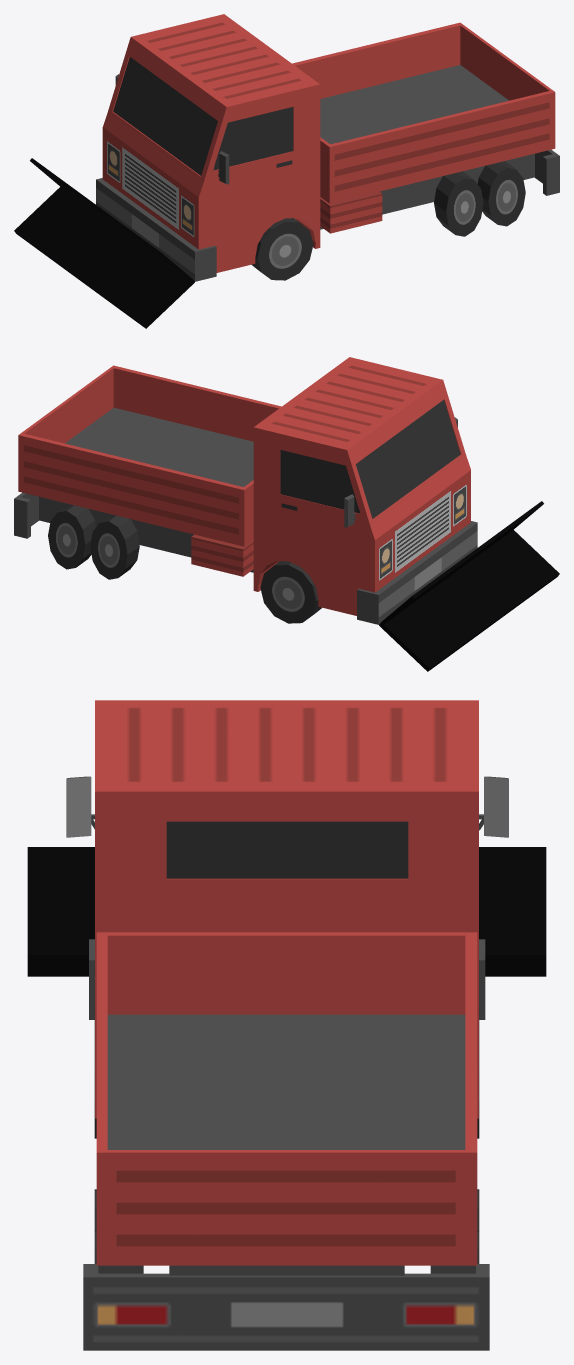
File: snow-truck-1.glb
3 renders of one model, top to bottom at view 1: azimuth 30°, elevation 25°; view 2: azimuth 150°, elevation 25°; view 3: azimuth 270°, elevation 25°, orthographic. The views are drawn at different scales.
Parts seen in each view (by area): view 1: Vehicle_Truck_color02.000, plow; view 2: Vehicle_Truck_color02.000, plow; view 3: Vehicle_Truck_color02.000, plow.
Part boxes in pixels (x1,y1,x2,y2): Vehicle_Truck_color02.000: (96,14,559,281); plow: (14,158,194,328); Vehicle_Truck_color02.000: (14,357,477,624); plow: (379,501,559,671); Vehicle_Truck_color02.000: (66,700,508,1350); plow: (27,847,546,976).
Bounding box in the file's own units: 8.14 × 3.39 × 4.25.
2 materials, 1 textured.
